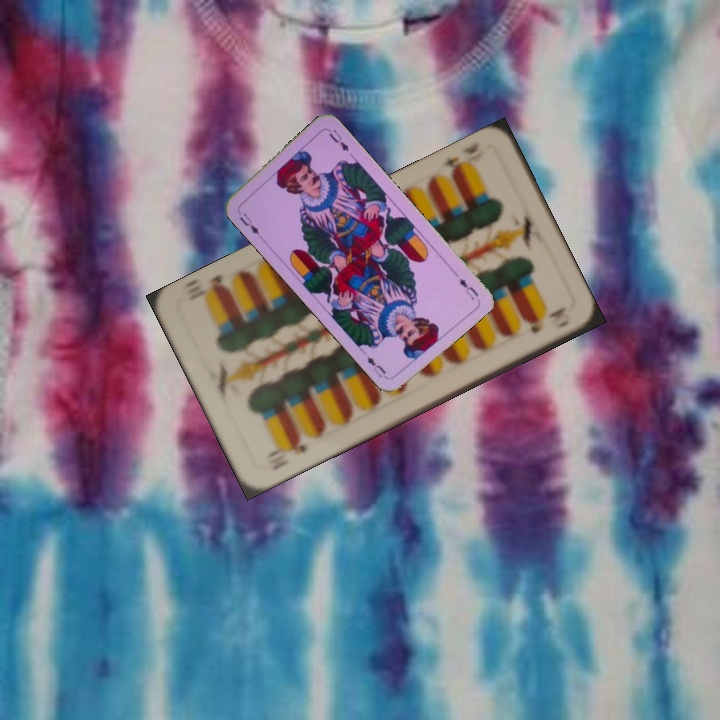E10: (439, 138, 484, 181), (265, 434, 312, 468)
EU: (235, 209, 262, 237), (455, 274, 481, 302)
